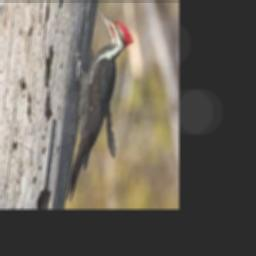Woodpecker: (65, 9, 133, 201)
